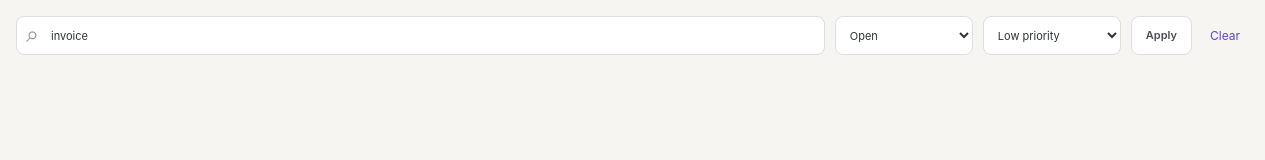
Test case: clear resets every filter and immediately notifies the parent
The width and height of the screenshot is (1265, 160).
Click the button "Clear" at [1225, 36], box [1202, 18, 1248, 52]
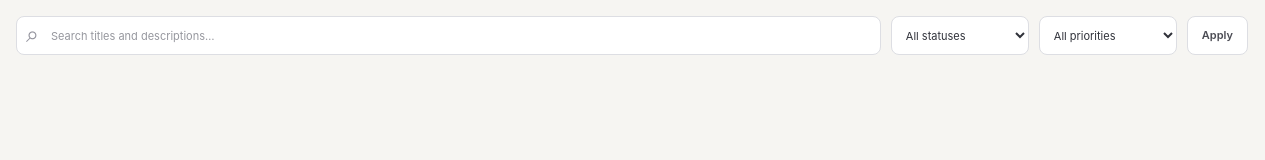
Check: the search field is empty, box [16, 16, 881, 55]
Check: the 1st dropdown named "Status" shows "All statuses", box [891, 16, 1029, 55]
